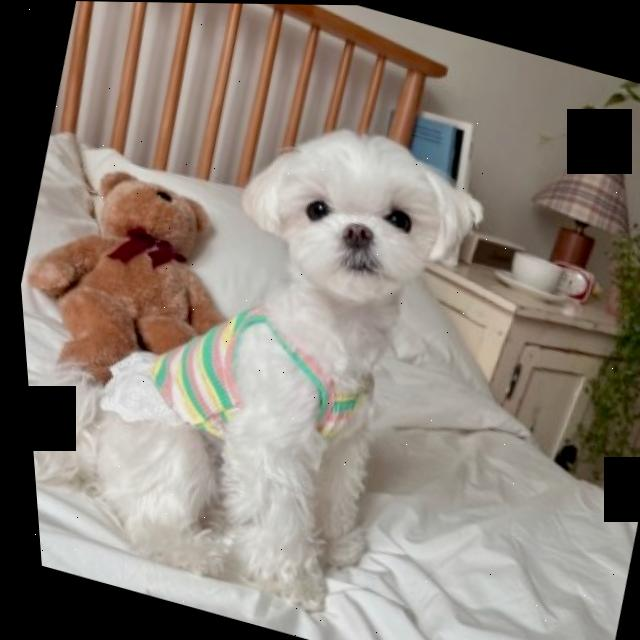cloth: (93, 307, 365, 437)
